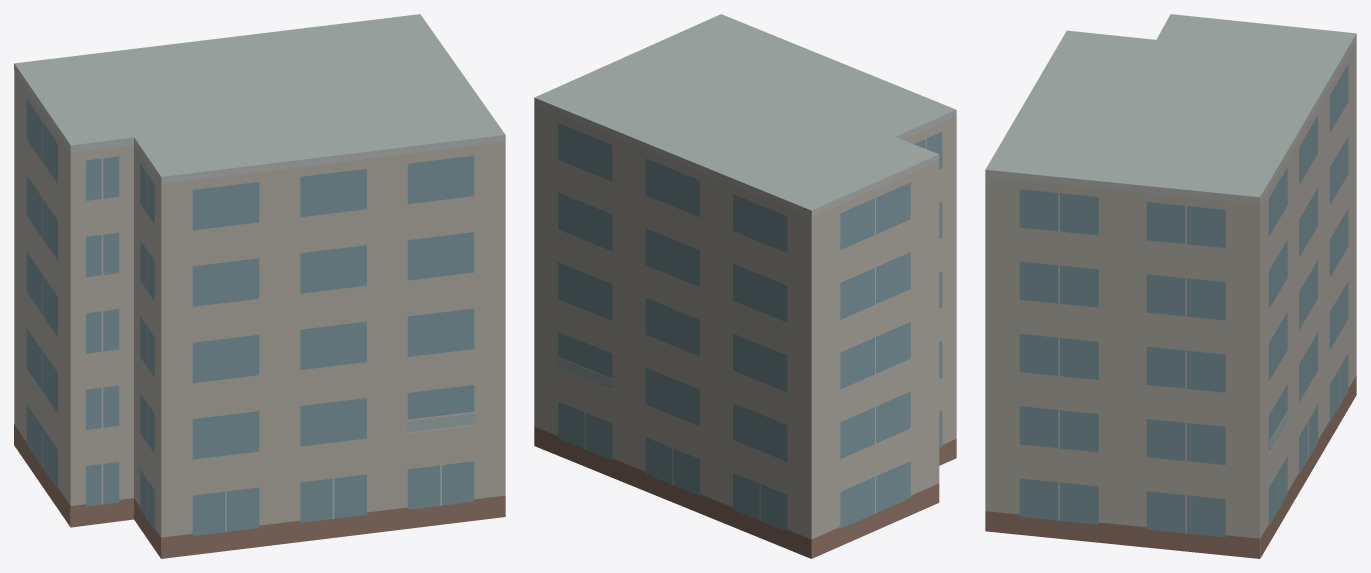
The model's file is survey-upis-32998859.glb.
The picture shows the model from 3 angles, left to right: view 1: azimuth 30°, elevation 25°; view 2: azimuth 150°, elevation 25°; view 3: azimuth 270°, elevation 25°; orthographic projection. The views are drawn at different scales.
Parts seen in each view (by area): view 1: survey-upis-32998859.tmp; view 2: survey-upis-32998859.tmp; view 3: survey-upis-32998859.tmp.
Boxes of the visible parts, bbox=[...] form: survey-upis-32998859.tmp: bbox=[14, 14, 505, 558]; survey-upis-32998859.tmp: bbox=[534, 14, 956, 558]; survey-upis-32998859.tmp: bbox=[985, 14, 1356, 558].
Bounding box in the file's own units: 14.25 × 13.1 × 12.2.
